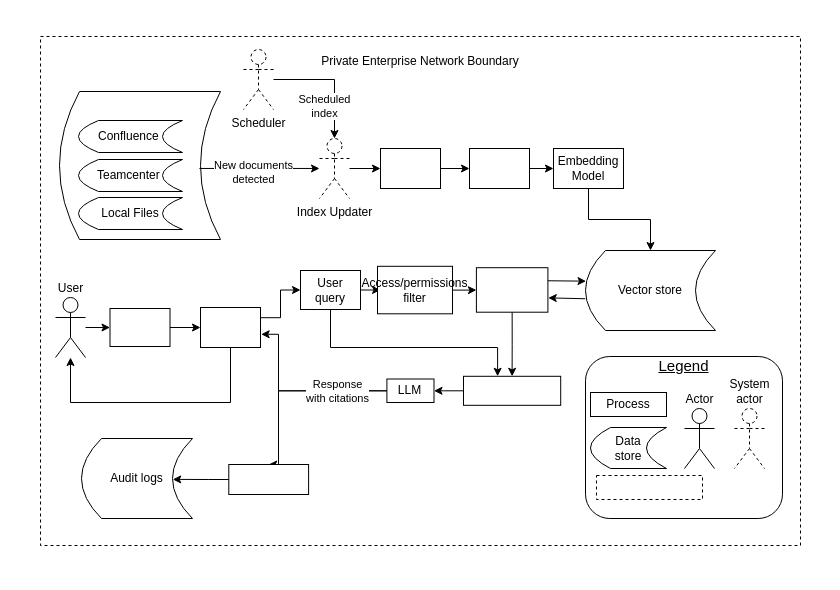
This 840x590 diagram has some shape labels left out. The box of each missing label's shape, as (x1, y1, x2, y2) in pixels:
Access Controller: (109, 308, 170, 346)
Audit logger: (228, 464, 309, 494)
Chunker: (468, 148, 530, 188)
Knowledge repositories: (58, 90, 220, 240)
Parser: (380, 148, 440, 188)
Prompt template: (462, 375, 561, 405)
Query embedder & retriever: (475, 267, 548, 312)
System boundary: (596, 474, 702, 500)
User interface: (200, 306, 260, 348)
